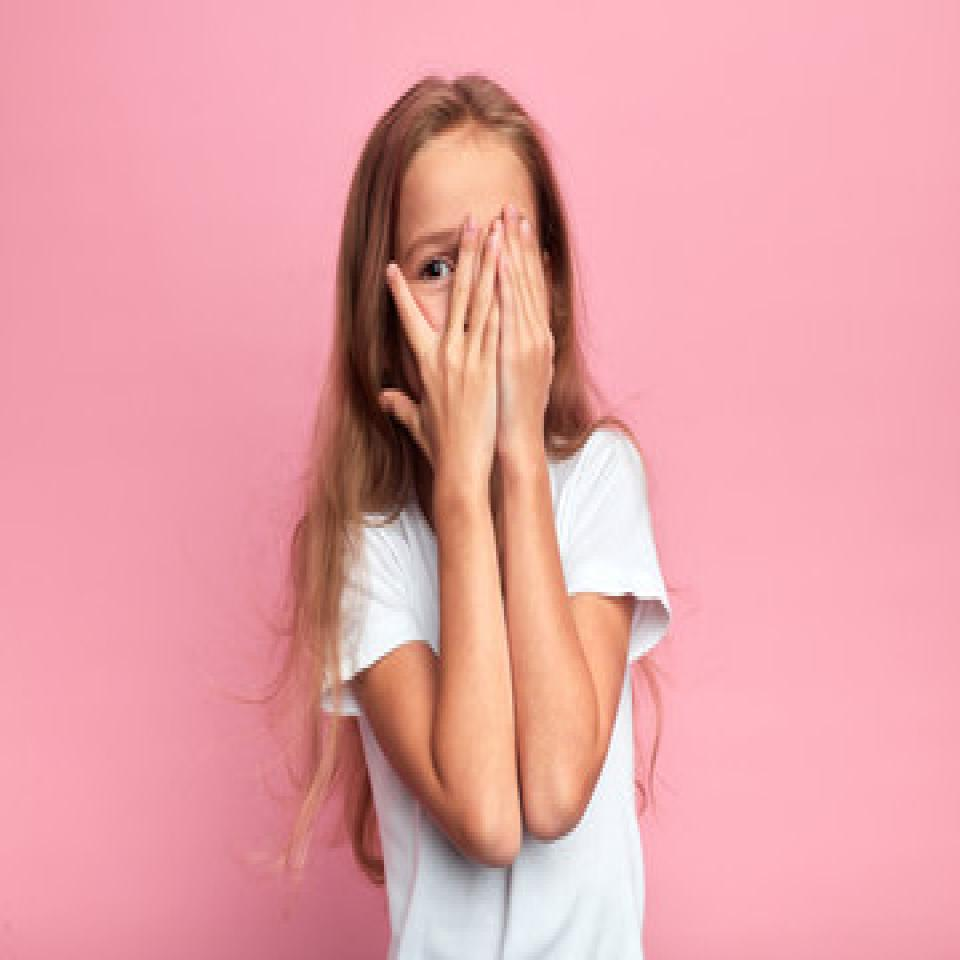Scared: (367, 107, 565, 483)
